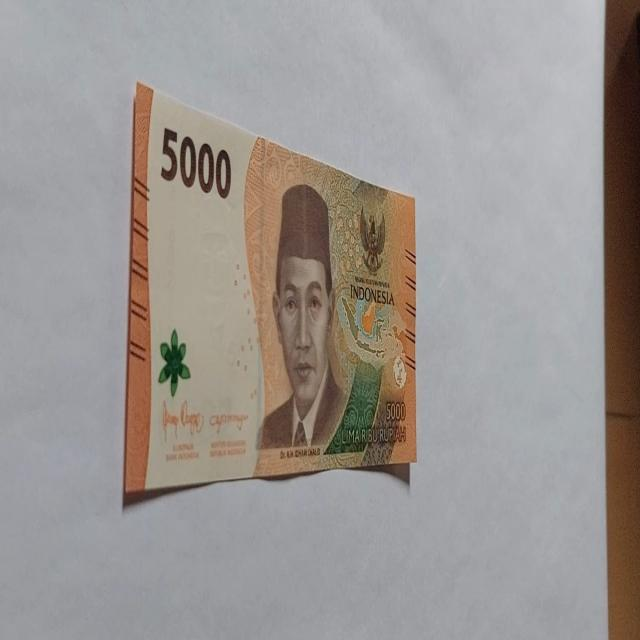lima ribu rupiah: (122, 84, 418, 510), (253, 182, 349, 454)
